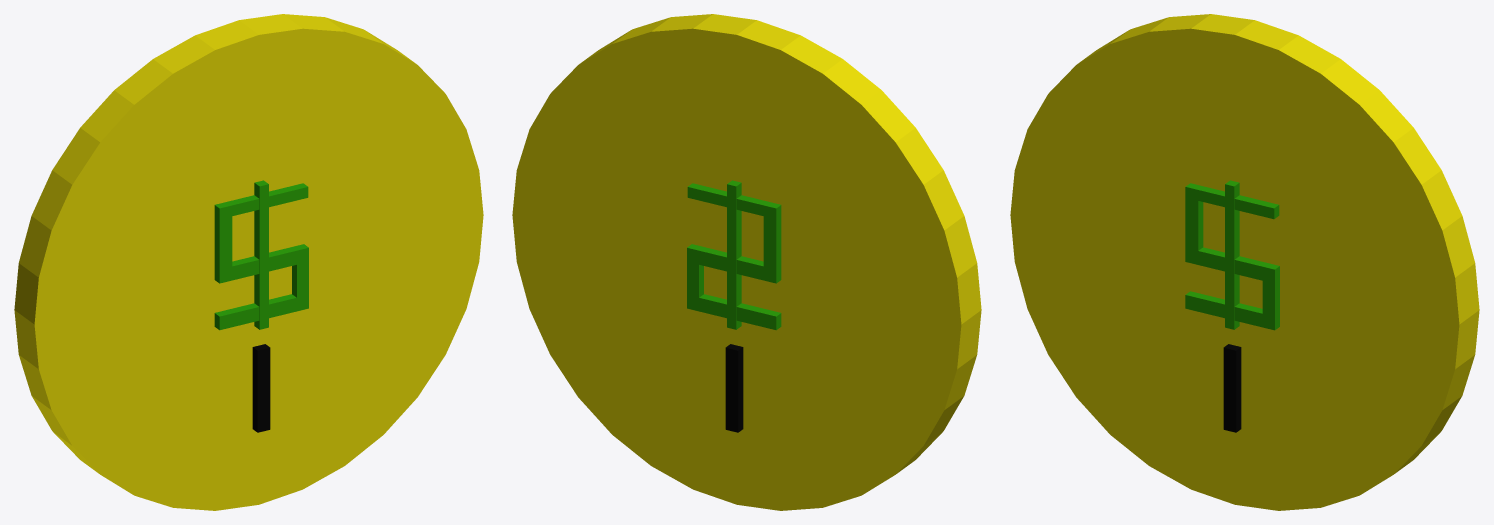
The model's file is GoldRoom1.fbx.
The picture shows the model from 3 angles, left to right: view 1: azimuth 30°, elevation 25°; view 2: azimuth 150°, elevation 25°; view 3: azimuth 330°, elevation 25°; orthographic projection.
Visible parts, largest first — view 1: Cylinder, Cube; view 2: Cylinder, Cube; view 3: Cylinder, Cube.
Part boxes in pixels (box(x1,y1,x2,y2)): Cylinder: box(14, 14, 483, 510); Cube: box(252, 344, 270, 432); Cylinder: box(512, 14, 981, 510); Cube: box(725, 344, 743, 432); Cylinder: box(1010, 14, 1479, 510); Cube: box(1223, 344, 1241, 432).
Size of the model in its own units: 200 by 200 by 23.55.
